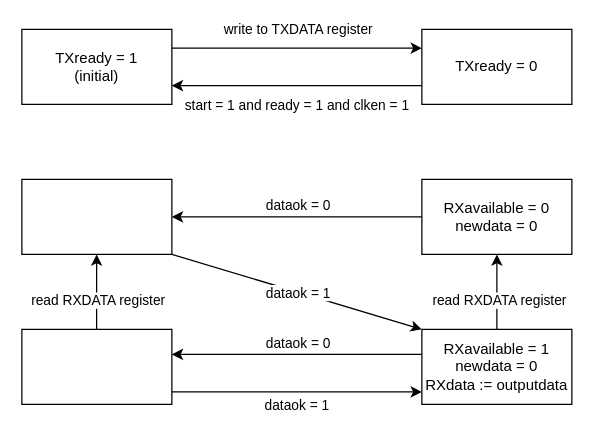
This 594x434 diagram has some shape labels left out. The centre of each missing label's shape, as x and y in pixels:
RXavailable = 0 newdata = 1 (initial): pixel 96 216
RXavailable = 1 newdata = 1: pixel 96 366
